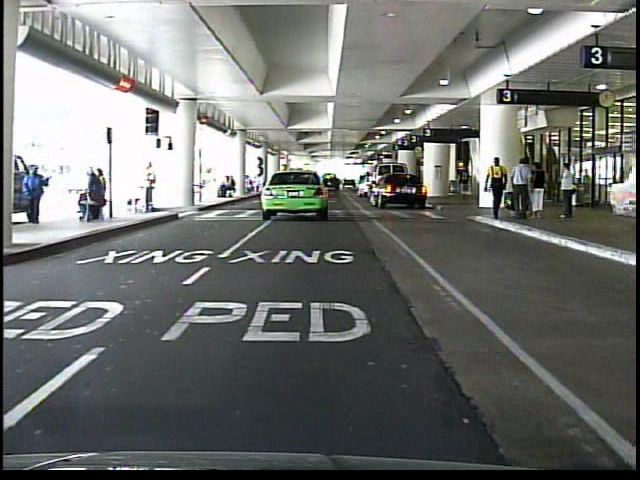person: (24, 159, 56, 224), (555, 159, 584, 228), (481, 151, 508, 224), (135, 161, 163, 221), (515, 150, 535, 226), (530, 159, 546, 222), (455, 160, 476, 205)
